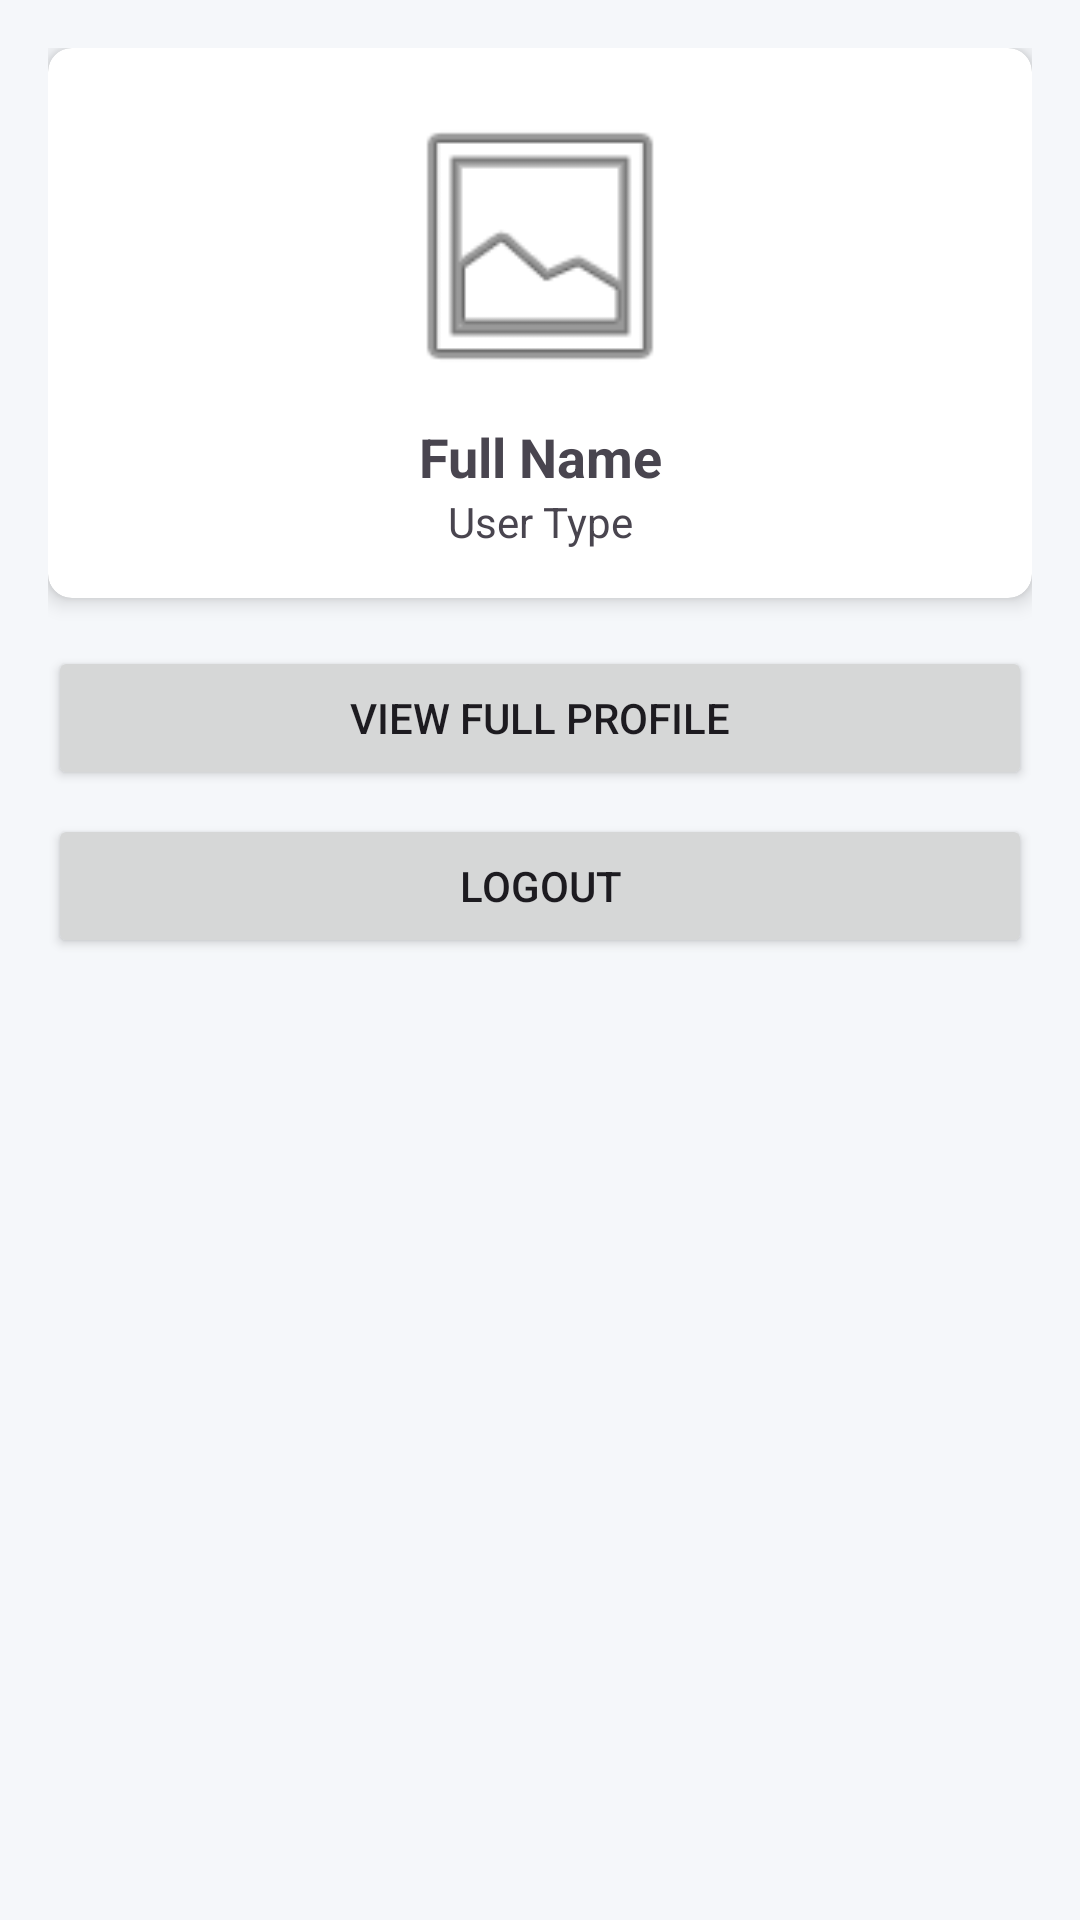

Named icons in this screenshot (1080 × 1920) and their bounding boxes, (x1, y1, x2, y2):
Profile Image: (427, 133, 653, 359)
